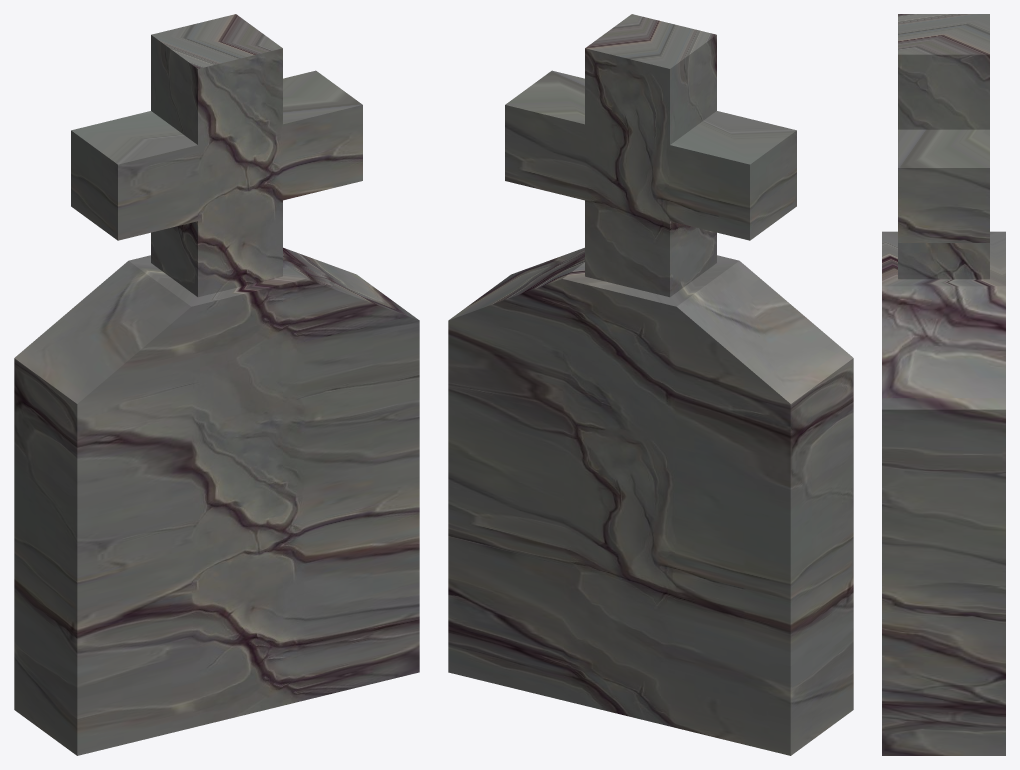
The model's file is Tumulo.fbx.
3 renders of one model, left to right at view 1: azimuth 30°, elevation 25°; view 2: azimuth 150°, elevation 25°; view 3: azimuth 270°, elevation 25°, orthographic.
Visible parts, largest first — view 1: Cube; view 2: Cube; view 3: Cube.
Part boxes in pixels (x1,y1,x2,y2): Cube: (14,14,419,755); Cube: (448,14,853,755); Cube: (882,14,1005,755).
Size of the model in its own units: 200 by 363 by 63.7.
